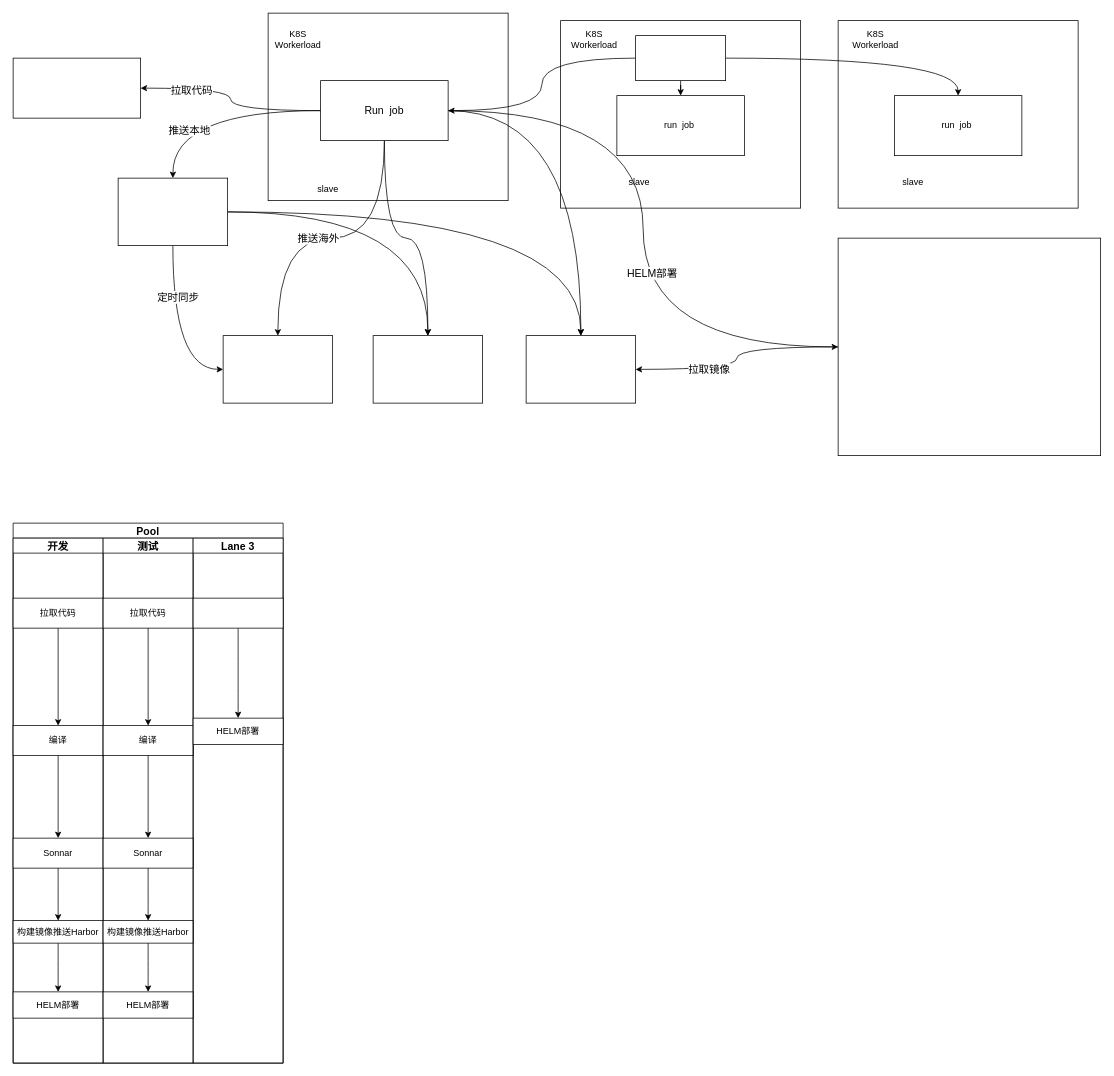
The diagram is 1114 pixels wide and 1076 high, and some of its shapes have lost their labels. Here are the shapes that lost their labels. From the top down, the centre of each, then its label:
At pixel 680 58: "Jenkins Server".
At pixel 76 87: "Gitlab".
At pixel 172 211: "BJ Harbor".
At pixel 969 346: "BIZ K8S Workerload".
At pixel 277 369: "AP Harbor".
At pixel 427 369: "RUS Harbor".
At pixel 580 369: "EU Harbor".
At pixel 237 612: "复制镜像".
